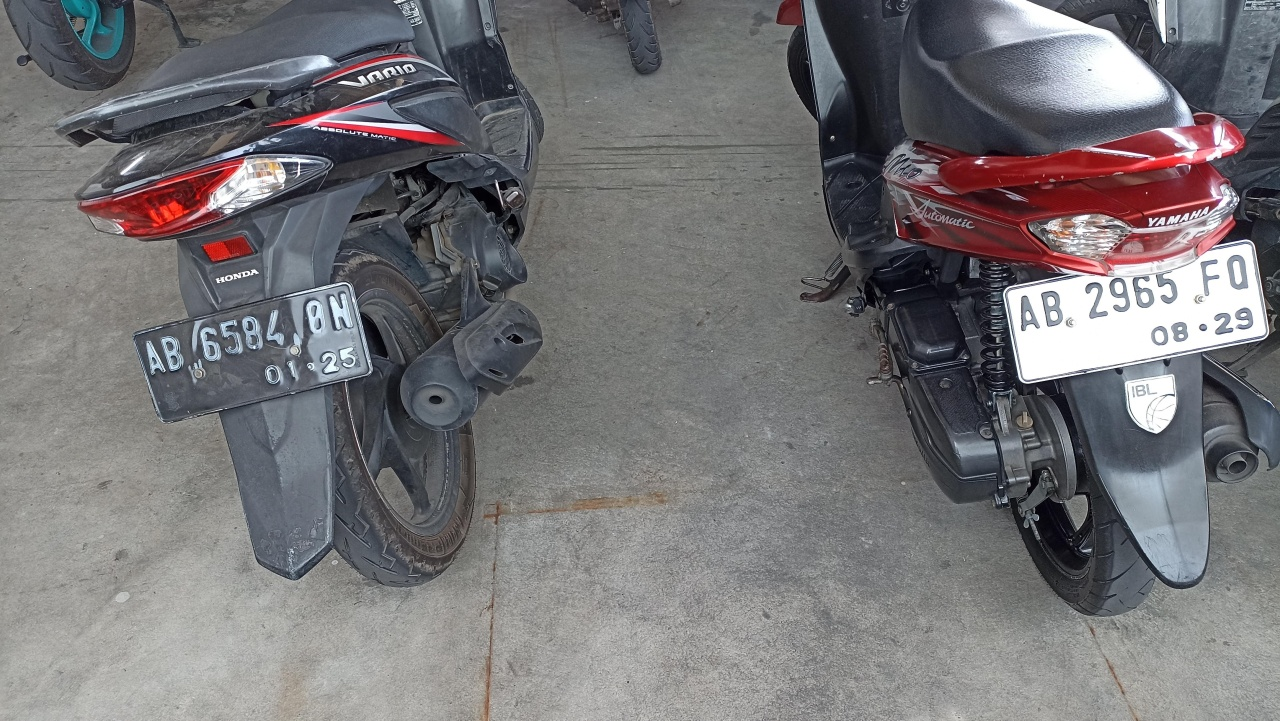plate: (1005, 241, 1269, 384), (133, 280, 373, 426)
